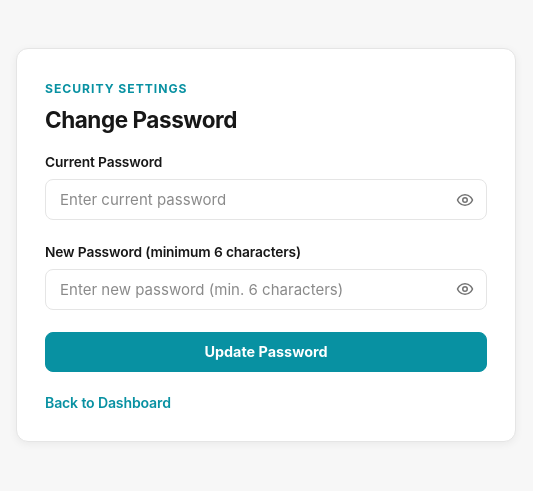
Test: Audit Remediation & Verification Suite › Change Password & MustChangePassword Flow › enforces 6-character minimum for new password
In the password field with placeholder "Enter current password": (266, 200) top-left (45, 179), bottom-right (487, 220), type "oldPass123"
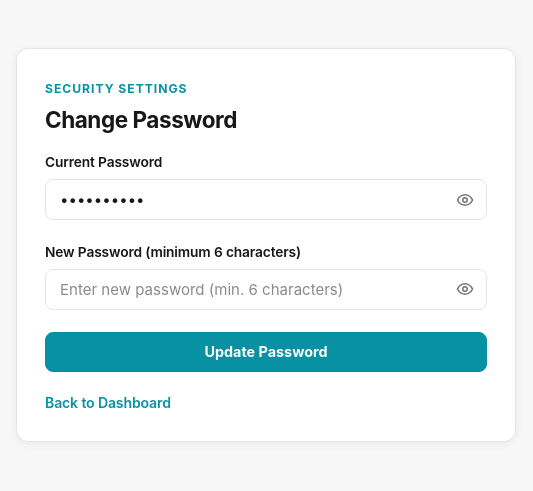
In the password field with placeholder "Enter new password (min. 6 characters)": (266, 289) top-left (45, 269), bottom-right (487, 310), type "12345"
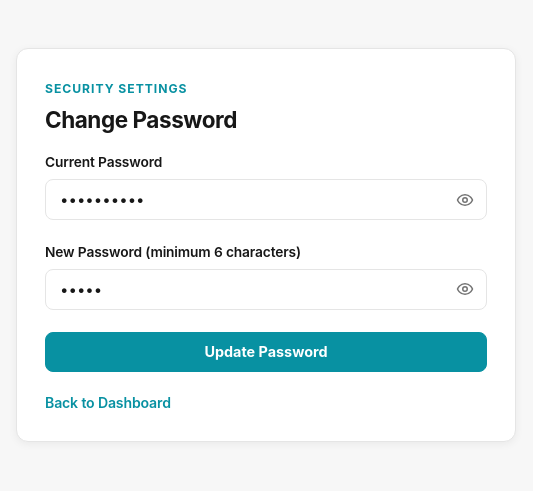
Click the button "Update Password": (266, 352) top-left (45, 332), bottom-right (487, 372)
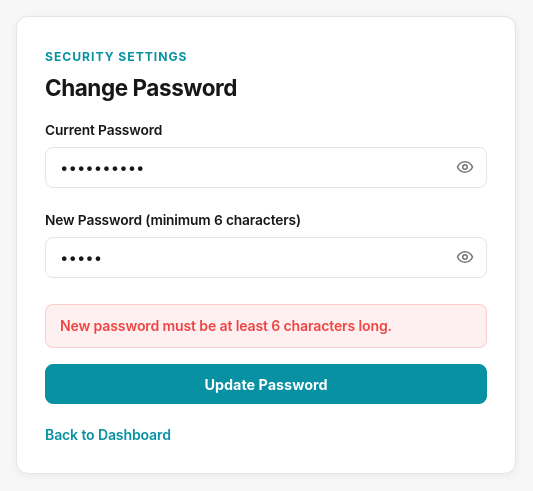
Check: the text "New password must be at least 6 characters long." is shown, box top-left (45, 304), bottom-right (487, 348)
